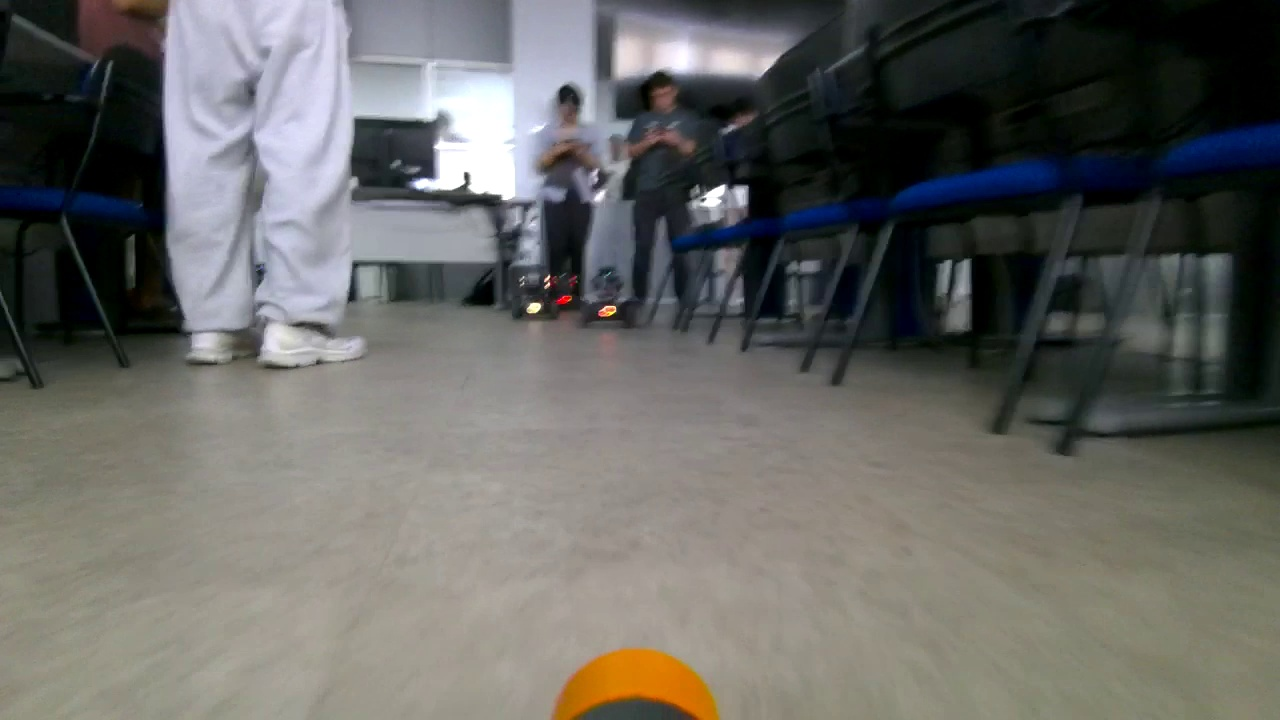robot: (583, 260, 642, 333)
